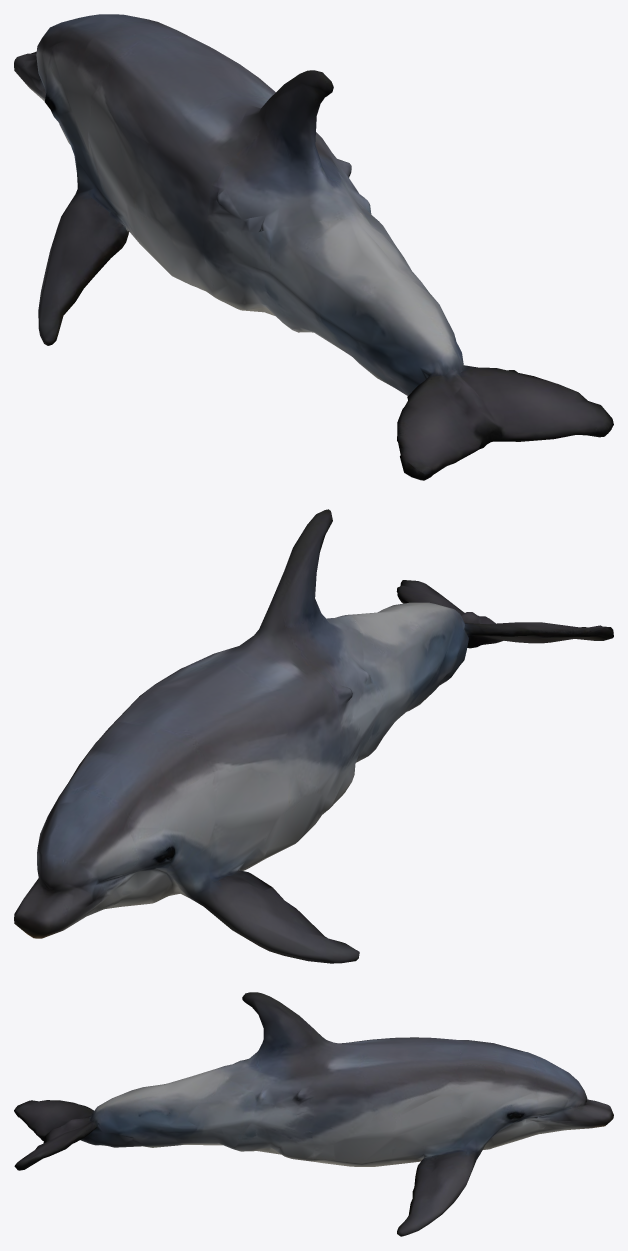
Rendered from dolphin.glb.
The picture shows the model from 3 angles, top to bottom: view 1: azimuth 30°, elevation 25°; view 2: azimuth 150°, elevation 25°; view 3: azimuth 270°, elevation 25°; orthographic projection. The views are drawn at different scales.
Parts seen in each view (by area): view 1: dolphin; view 2: dolphin; view 3: dolphin.
Boxes of the visible parts, x1,y1,x2,y2 form: dolphin: (14,14,613,480); dolphin: (14,509,613,963); dolphin: (14,992,613,1236).
Size of the model in its own units: 0.3726 by 0.3638 by 0.9996.
1 material, 1 textured.
